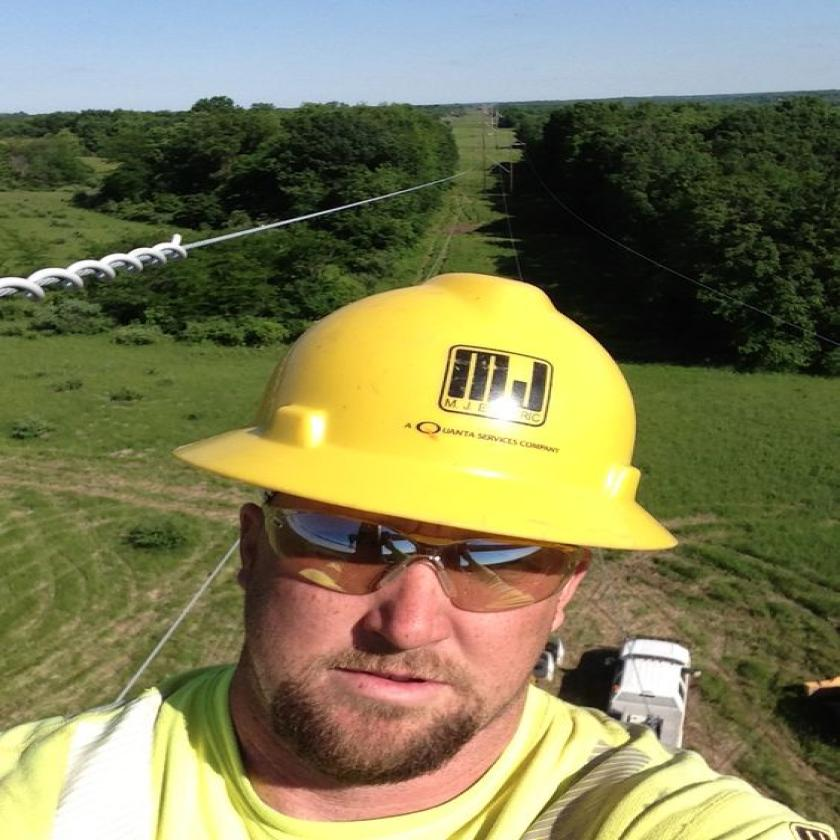Con_casco: (144, 259, 690, 806)
